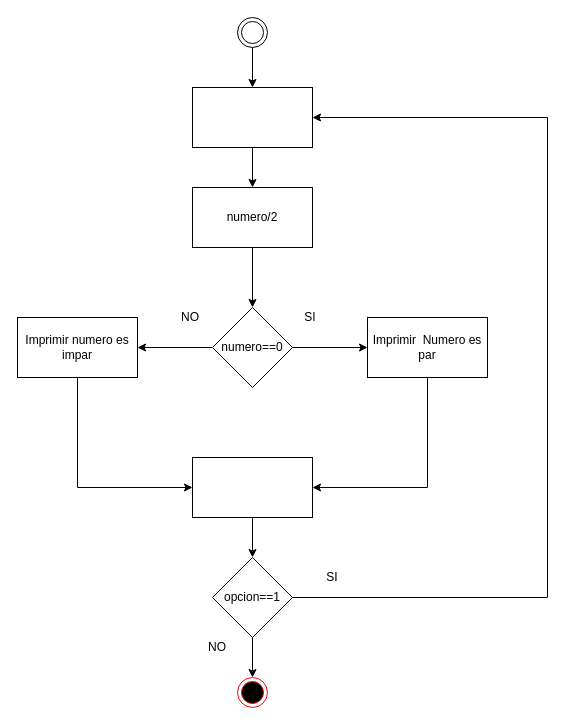
Some shapes in this 573 by 725 pixel diagram are drawn without their labels. Here are the shapes that lost their labels. From the top down, the box of each, then its label:
(192, 86, 312, 148): Introduzca un numero entero:
(192, 456, 312, 518): Introducir 1 para realizar de nuevo
